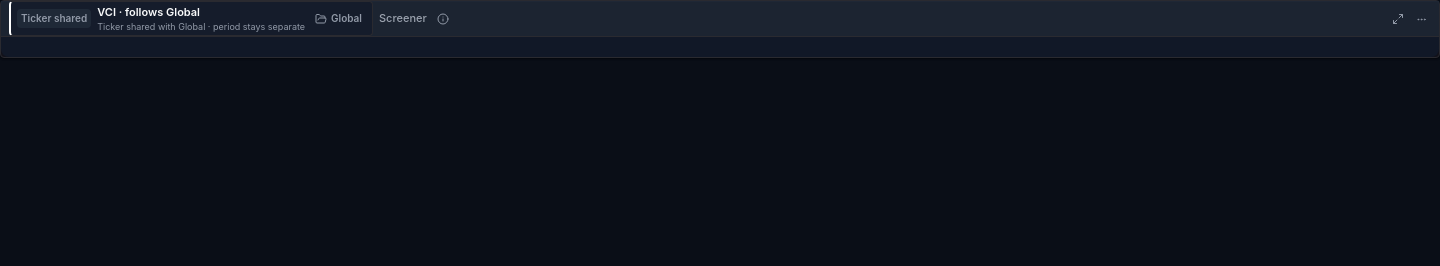
Test case: ordinary Vietnamese group followers adopt their new group ticker without changing the global ticker
Click the button with aria-label "Ticker group: ".
click(338, 18)  # box x1=311 y1=9 x2=366 y2=28
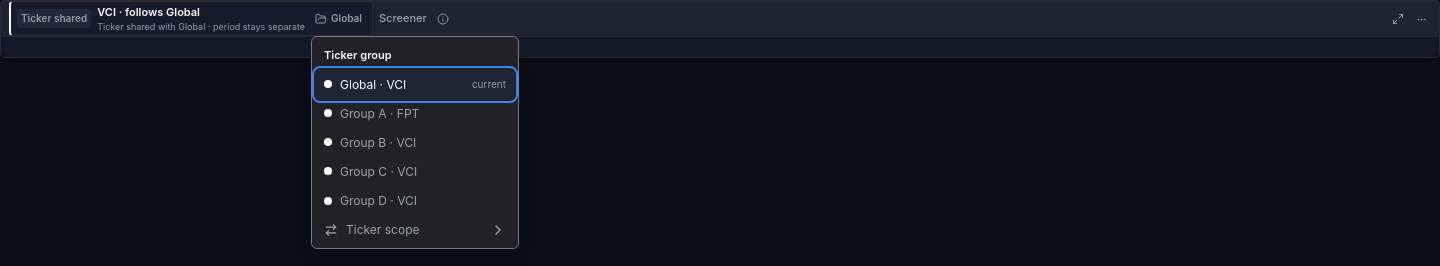
Click the menu item "Group A · FPT".
click(372, 113)  # box x1=324 y1=106 x2=419 y2=121
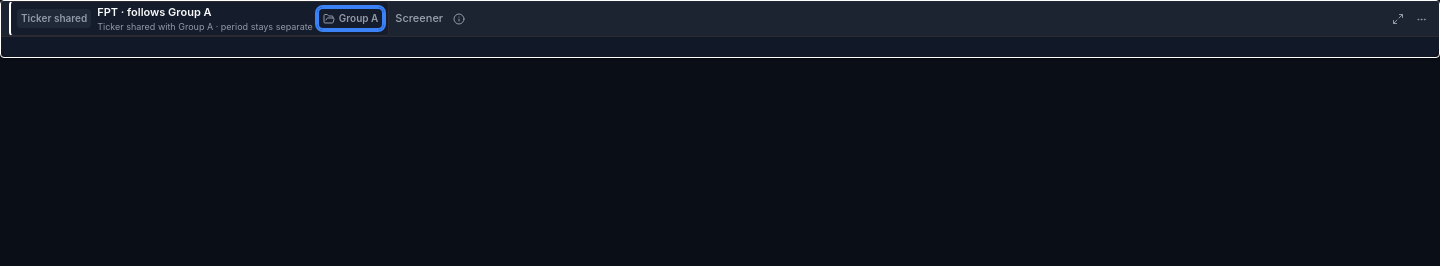
Expected: the button with aria-label "Ticker group: Group A, current ticker FPT" is shown, x1=319 y1=9 x2=382 y2=28
